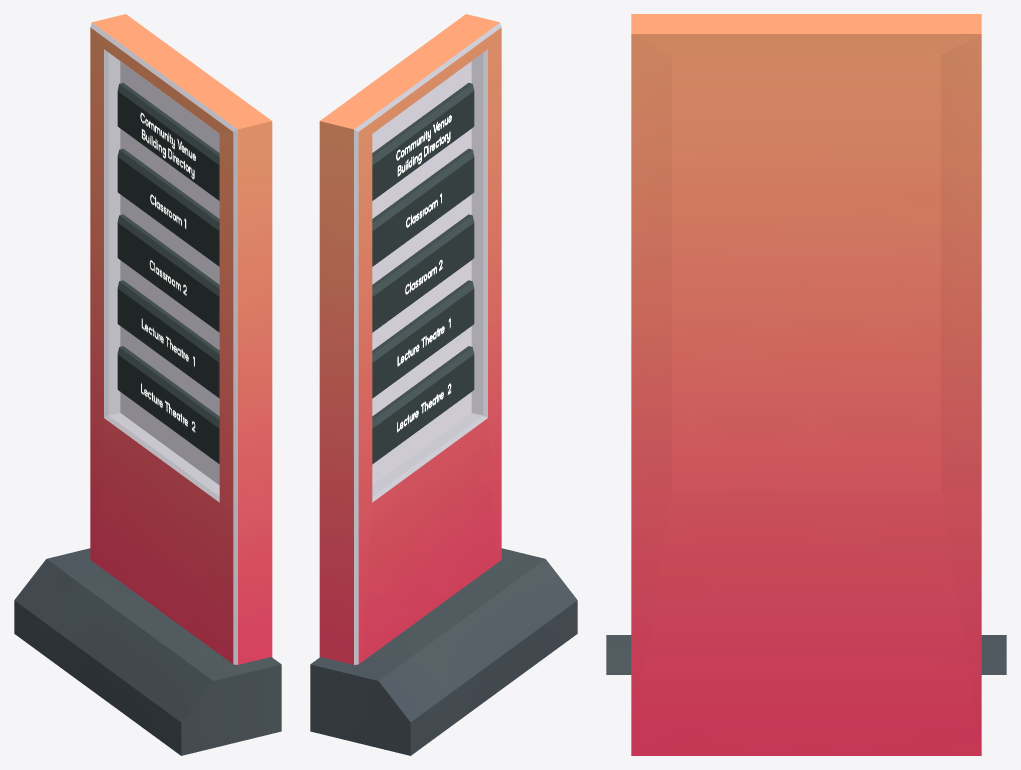
Rendered from TeachingCommunityTeleport.glb.
3 renders of one model, left to right at view 1: azimuth 30°, elevation 25°; view 2: azimuth 150°, elevation 25°; view 3: azimuth 270°, elevation 25°, orthographic. The views are drawn at different scales.
Parts seen in each view (by area): view 1: TCV_WelcomeZoneWhatsOnScreen1, CommunityVenueBuildingDirectoryTitle, Classroom1, LectureTheatre2, Classroom2, LectureTheatre1; view 2: TCV_WelcomeZoneWhatsOnScreen1, LectureTheatre2, Classroom1, Classroom2, LectureTheatre1, CommunityVenueBuildingDirectoryTitle; view 3: TCV_WelcomeZoneWhatsOnScreen1.
Boxes of the visible parts, box(x1,y1,x2,y2) form: TCV_WelcomeZoneWhatsOnScreen1: box(14, 14, 281, 755); CommunityVenueBuildingDirectoryTitle: box(117, 82, 219, 200); Classroom1: box(117, 148, 219, 266); LectureTheatre2: box(117, 346, 219, 464); Classroom2: box(117, 214, 219, 332); LectureTheatre1: box(117, 280, 219, 398); TCV_WelcomeZoneWhatsOnScreen1: box(310, 14, 577, 755); LectureTheatre2: box(372, 346, 474, 464); Classroom1: box(372, 148, 474, 266); Classroom2: box(372, 214, 474, 332); LectureTheatre1: box(372, 280, 474, 398); CommunityVenueBuildingDirectoryTitle: box(372, 82, 474, 200); TCV_WelcomeZoneWhatsOnScreen1: box(606, 14, 1006, 755).
Size of what is drawn, in the model's own units: 0.5639 by 3.2 by 1.61.
3 materials, 3 textured.
